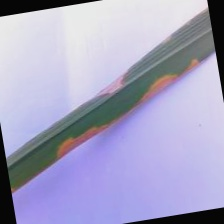Leaf_Blast: (130, 54, 209, 107), (44, 113, 117, 159), (74, 61, 132, 104)
